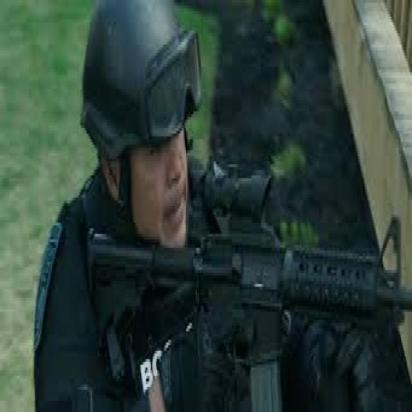Gun: (87, 160, 412, 411)
